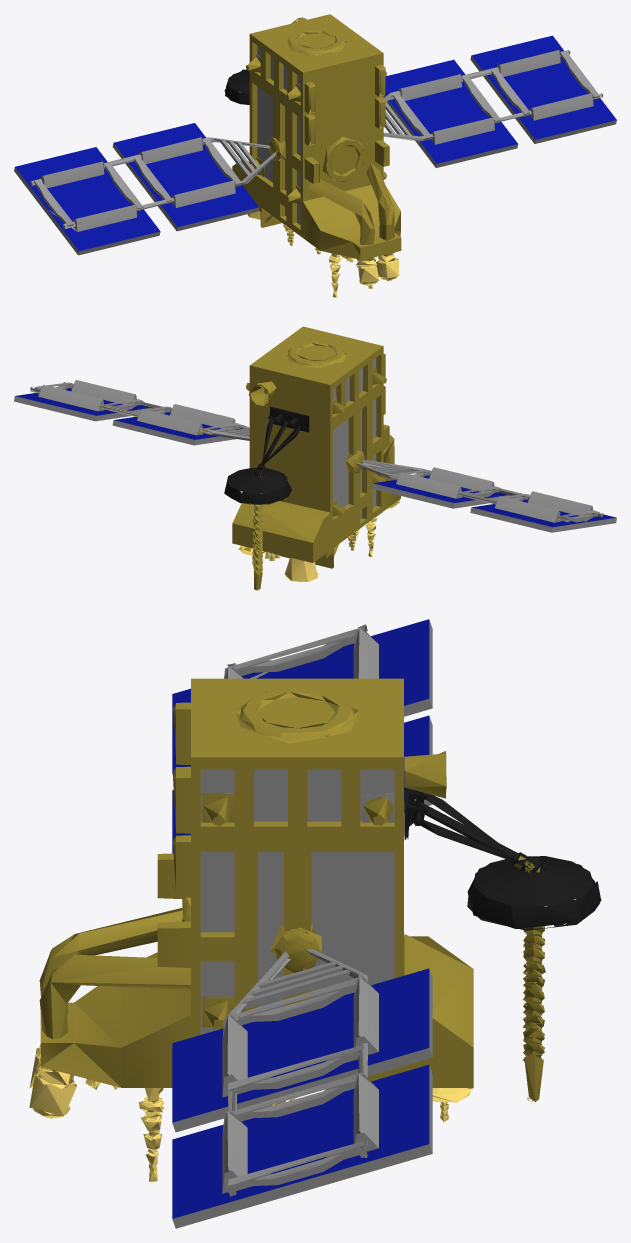
File: glonass.obj
The picture shows the model from 3 angles, top to bottom: view 1: azimuth 30°, elevation 25°; view 2: azimuth 150°, elevation 25°; view 3: azimuth 270°, elevation 25°; orthographic projection. The views are drawn at different scales.
Parts seen in each view (by area): view 1: Base, SolarPanels, BaseSide, SideGray, AntennaFront, AntennaTop; view 2: Base, BaseSide, AntennaTop, SolarPanels, SideGray, AntennaFront; view 3: Base, SolarPanels, BaseSide, SideGray, AntennaTop, AntennaFront.
Boxes of the visible parts, bbox=[...] form: Base: bbox=[137, 14, 599, 260]; SolarPanels: bbox=[15, 35, 616, 251]; BaseSide: bbox=[14, 50, 616, 255]; SideGray: bbox=[256, 46, 300, 224]; AntennaFront: bbox=[247, 210, 399, 297]; AntennaTop: bbox=[224, 69, 249, 104]; Base: bbox=[34, 326, 400, 590]; BaseSide: bbox=[14, 380, 616, 532]; AntennaTop: bbox=[224, 406, 309, 504]; SolarPanels: bbox=[15, 388, 615, 527]; SideGray: bbox=[332, 358, 376, 518]; AntennaFront: bbox=[238, 499, 399, 582]; Base: bbox=[39, 678, 545, 1143]; SolarPanels: bbox=[172, 619, 429, 1218]; BaseSide: bbox=[172, 620, 432, 1228]; SideGray: bbox=[200, 769, 394, 1034]; AntennaTop: bbox=[404, 787, 601, 930]; AntennaFront: bbox=[29, 1045, 472, 1182].
Size of the model in its own units: 3.5 by 1.41 by 1.61.
